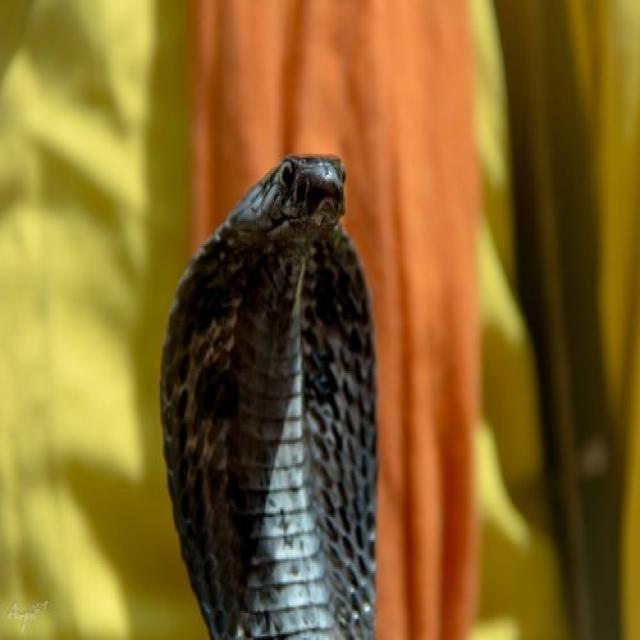Snake: (157, 150, 379, 638)
